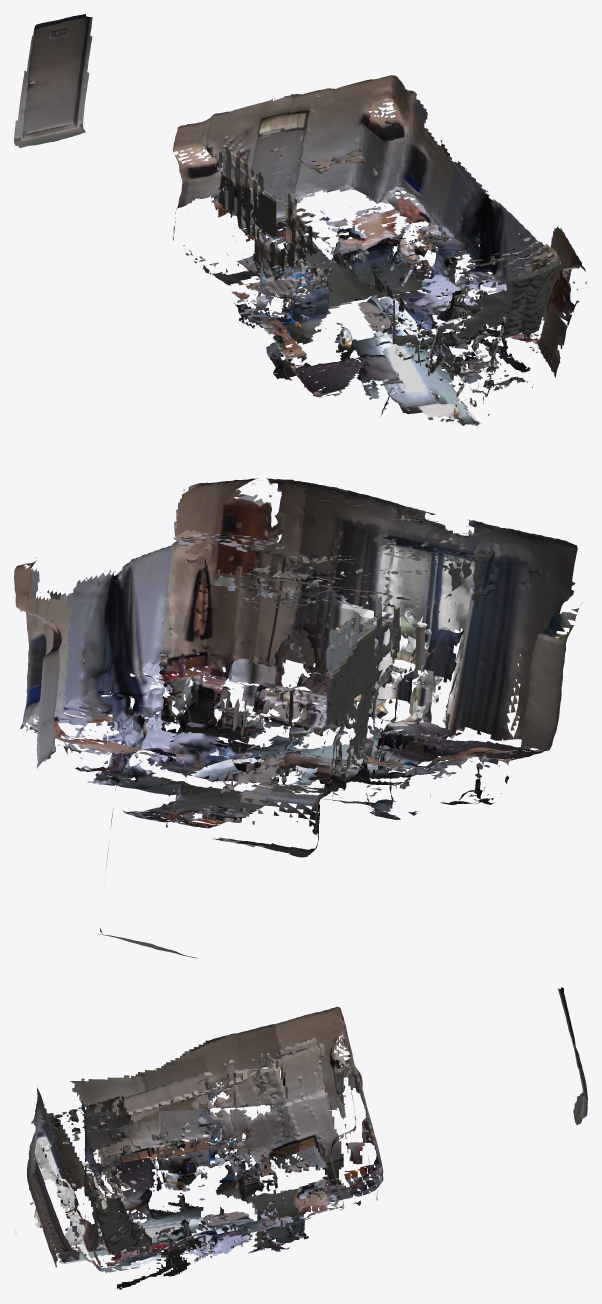
Rendered from model_video1_textured.glb.
3 views of the same model, one above another, from view 1: azimuth 30°, elevation 25°; view 2: azimuth 150°, elevation 25°; view 3: azimuth 270°, elevation 25° (orthographic). The views are drawn at different scales.
Visible parts, largest first — view 1: model_video1_textured_canonical.obj; view 2: model_video1_textured_canonical.obj; view 3: model_video1_textured_canonical.obj.
Boxes of the visible parts, x1,y1,x2,y2 form: model_video1_textured_canonical.obj: (14,14,586,428); model_video1_textured_canonical.obj: (14,478,582,958); model_video1_textured_canonical.obj: (14,987,587,1289).
Size of the model in its own units: 1.82 by 1.48 by 3.68.
Materials: 1 (1 with a texture image).
